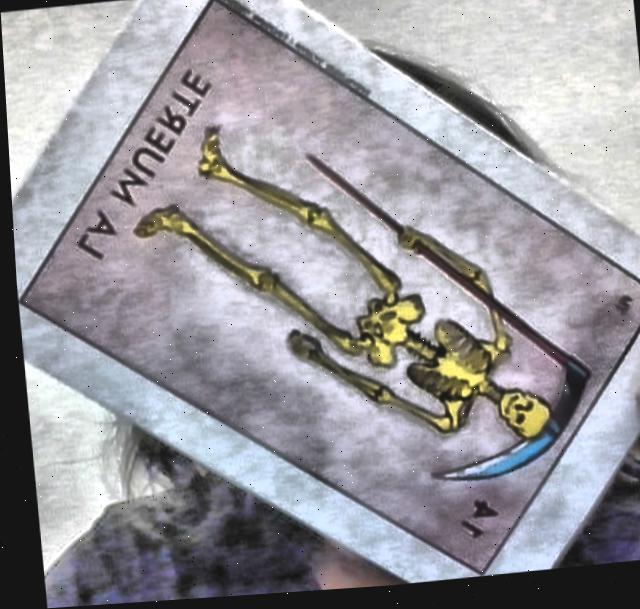La Muerte: (18, 2, 640, 580)
